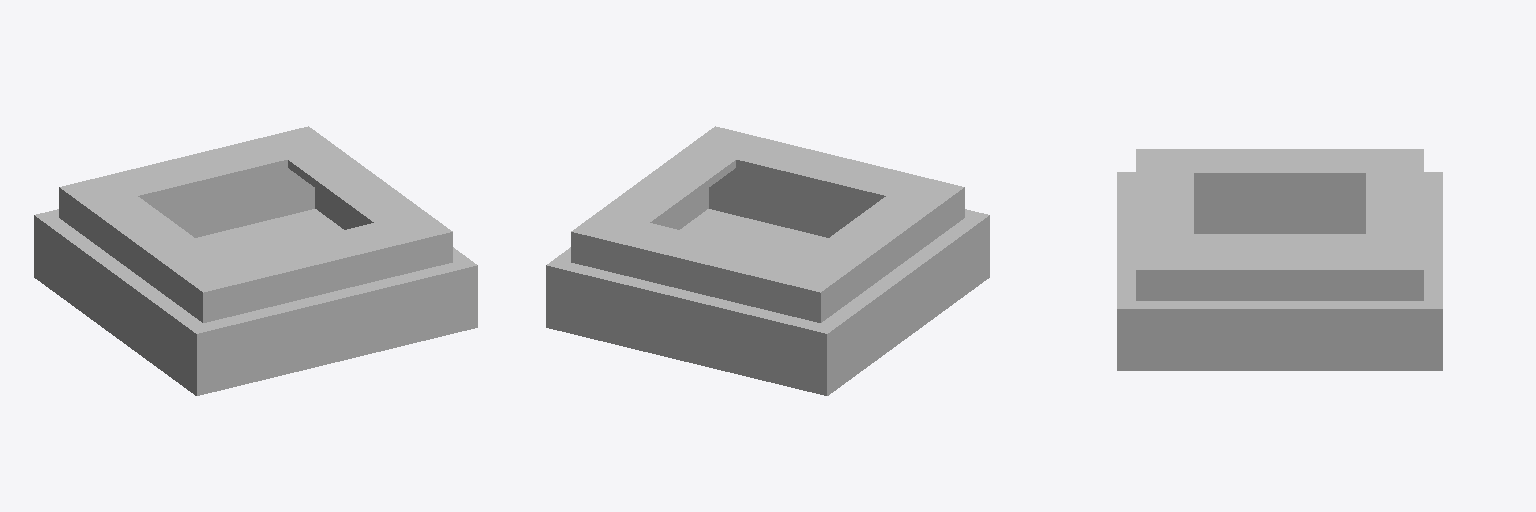
The model's file is lightBase.obj.
The picture shows the model from 3 angles: view 1: azimuth 30°, elevation 25°; view 2: azimuth 150°, elevation 25°; view 3: azimuth 270°, elevation 25°; orthographic projection.
Parts seen in each view (by area): view 1: poplight; view 2: poplight; view 3: poplight.
Part boxes in pixels (x1,y1,x2,y2): poplight: (34,126,477,395); poplight: (546,126,989,395); poplight: (1117,149,1442,370).
Bounding box in the file's own units: 12.9 × 4.08 × 12.9.